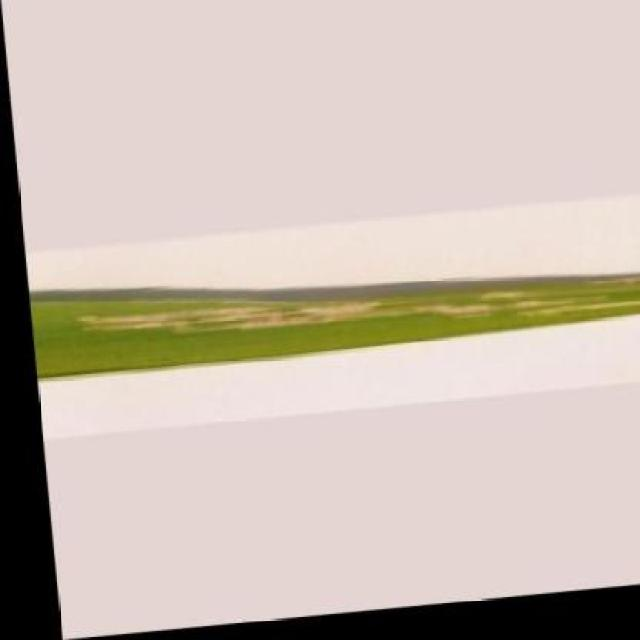Brown_Spot: (21, 246, 640, 384)
